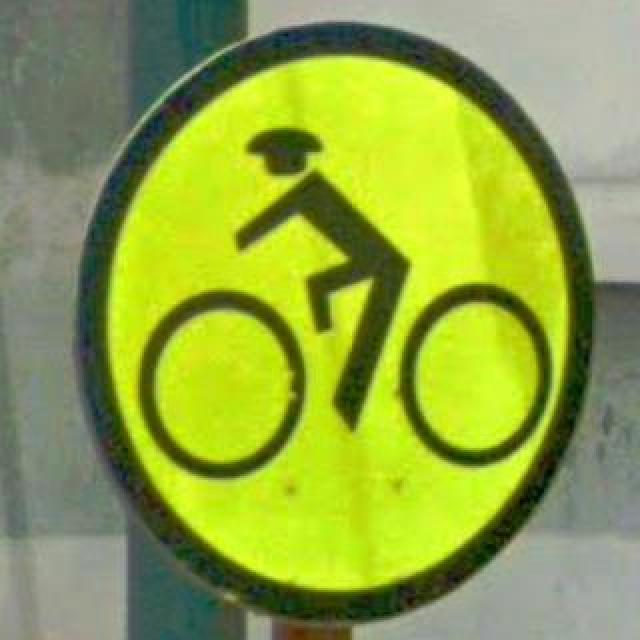bike lane: (72, 20, 596, 616)
